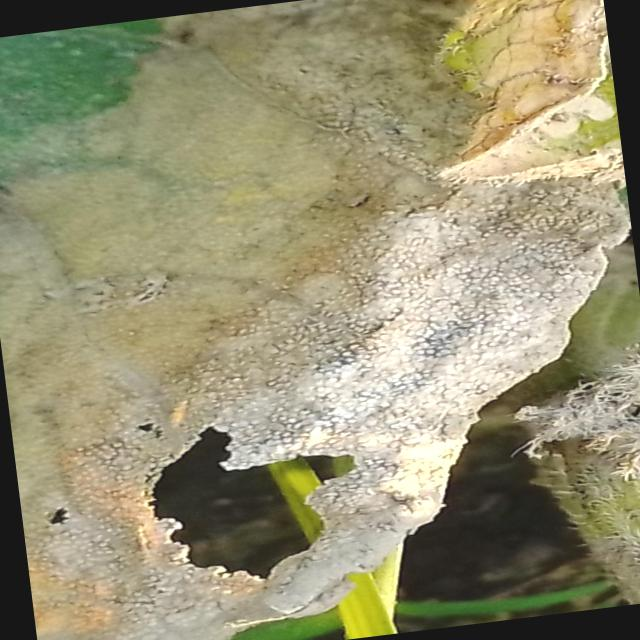cucumber_anthracnose: (0, 5, 403, 624)
